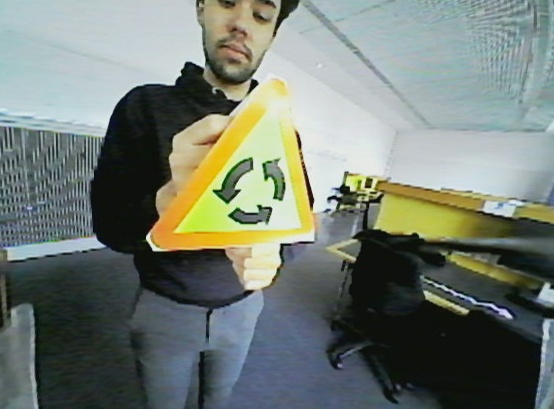roundabout_warning: (145, 72, 320, 251)
